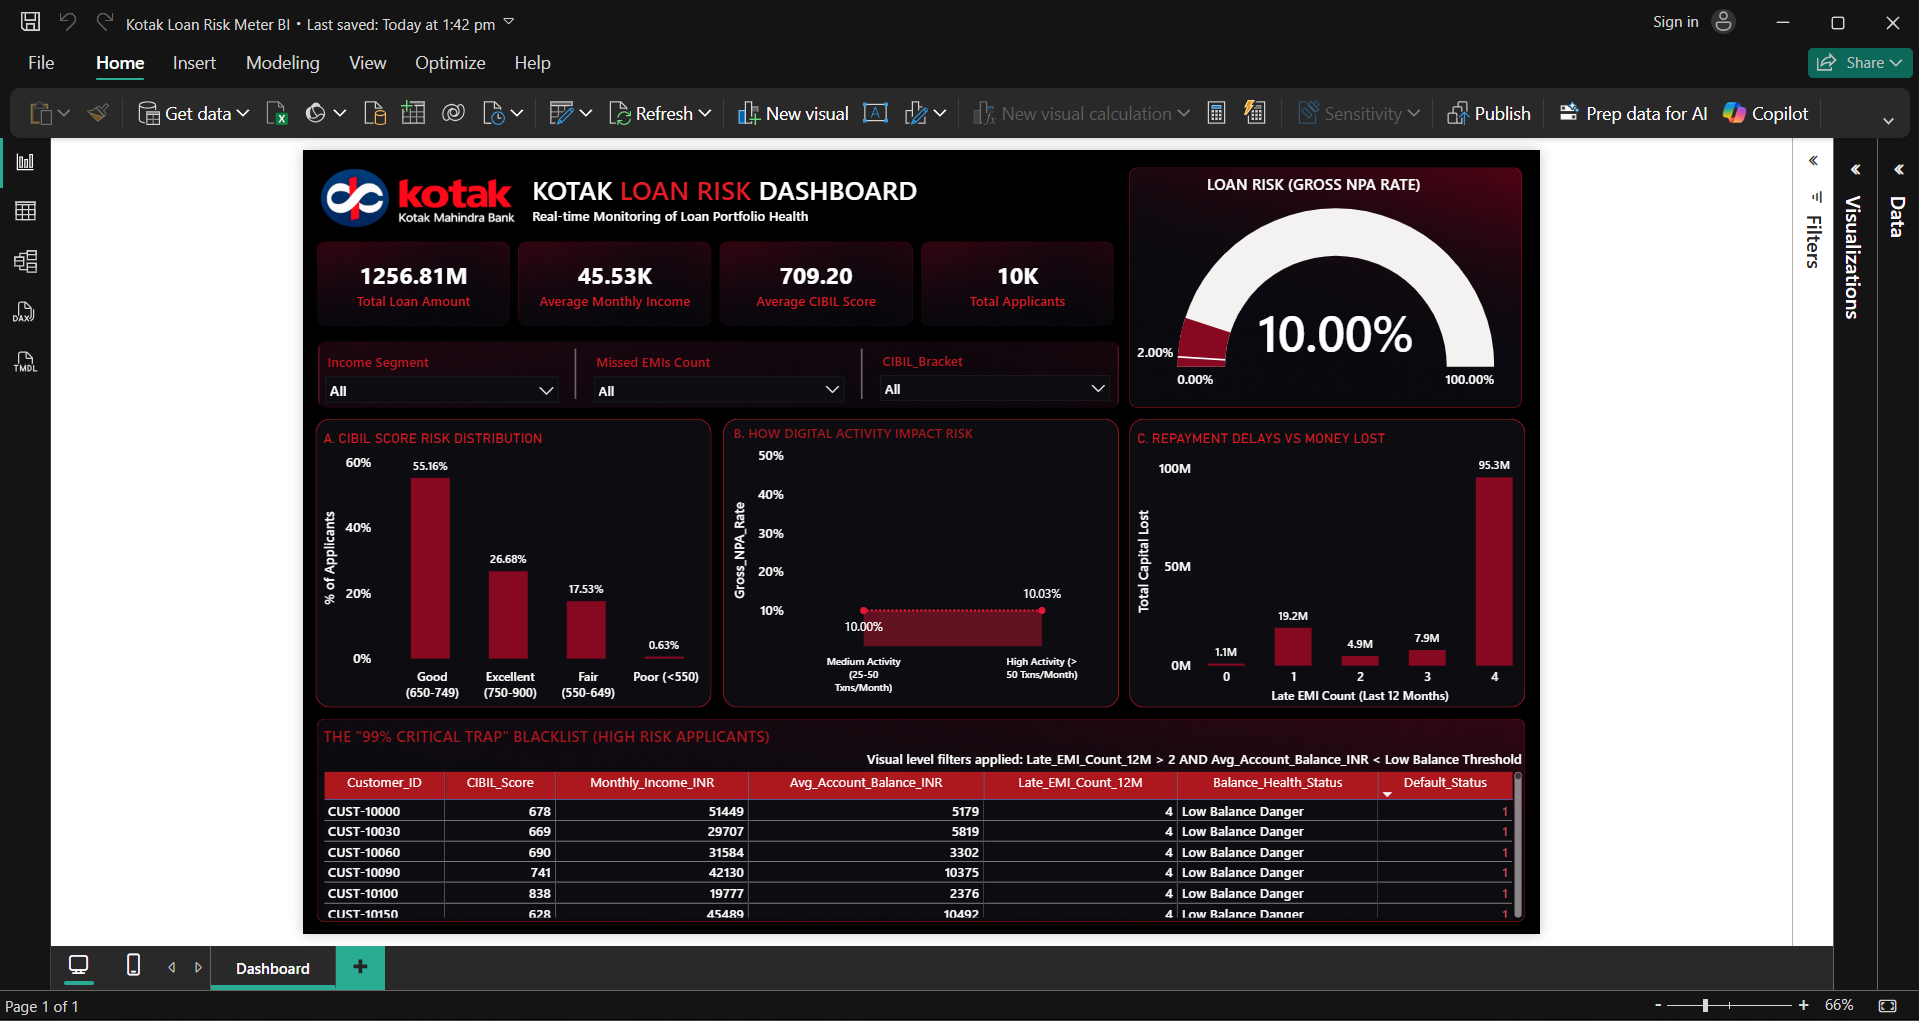

The page's visual inventory and layout, read from the dashboard file:
{"tool":"powerbi","page":{"name":"Dashboard","canvas":[1500,950],"ordinal":0},"visuals":[{"type":"textbox","box":[272.7,21.2,489.4,93.9],"z":0},{"type":"shape","box":[17.1,331.4,272.9,152.9],"z":1000},{"type":"image","box":[15.2,21.2,262.1,103],"z":2000},{"type":"cardVisual","title":"vshvs","fields":{"Data":["Kotak_Loans_Dataset.Total_Portfolio_Volume","Kotak_Loans_Dataset.Average_Monthly_Income","Kotak_Loans_Dataset.Average_CIBIL_Score","Kotak_Loans_Dataset.Total_Applicants_Count"]},"box":[0,93.9,1001.5,137.9],"z":3000},{"type":"image","box":[17.7,232.3,971,80.6],"z":4000},{"type":"slicer","fields":{"Values":["Kotak_Loans_Dataset.Salary_Segment"]},"box":[17.2,240.6,303.1,79.7],"z":5000},{"type":"shape","box":[15.7,325.7,480,350],"z":6000},{"type":"clusteredColumnChart","title":"A. CIBIL SCORE RISK DISTRIBUTION","fields":{"Category":["Kotak_Loans_Dataset.CIBIL_Bracket"],"Y":["CountNonNull(Kotak_Loans_Dataset.Customer_ID)"]},"box":[19.7,339.4,489.4,336.4],"z":7000},{"type":"slicer","fields":{"Values":["Kotak_Loans_Dataset.Late_EMI_Count_12M"]},"box":[342.2,240.6,323.4,79.7],"z":8000},{"type":"shape","box":[307.8,240.6,45.3,60.9],"z":9000},{"type":"shape","box":[508.6,325.7,480,350],"z":10000},{"type":"shape","box":[1001.4,325.7,480,350],"z":11000},{"type":"areaChart","title":"B. HOW DIGITAL ACTIVITY IMPACT RISK","fields":{"Category":["Kotak_Loans_Dataset.UPI_Activity_Tier"],"Y":["Kotak_Loans_Dataset.Gross_NPA_Rate"]},"box":[517.2,331.2,479.7,335.9],"z":12000},{"type":"clusteredColumnChart","title":"C. REPAYMENT DELAYS VS MONEY LOST","fields":{"Category":["Kotak_Loans_Dataset.Late_EMI_Count_12M"],"Y":["Kotak_Loans_Dataset.Total_Capital_Lost"]},"box":[1006.1,339.9,475.6,336.9],"z":13000},{"type":"image","box":[16.1,688.7,1464.5,246.8],"z":14000},{"type":"tableEx","title":"THE \"99% CRITICAL TRAP\" BLACKLIST (HIGH RISK APPLICANTS)","fields":{"Values":["Kotak_Loans_Dataset.Customer_ID","Sum(Kotak_Loans_Dataset.CIBIL_Score)","Sum(Kotak_Loans_Dataset.Monthly_Income_INR)","Sum(Kotak_Loans_Dataset.Avg_Account_Balance_INR)","Sum(Kotak_Loans_Dataset.Late_EMI_Count_12M)","Kotak_Loans_Dataset.Balance_Health_Status","Sum(Kotak_Loans_Dataset.Default_Status)"]},"box":[19.4,696.8,1462.9,238.7],"z":15000},{"type":"image","box":[1001.5,21.2,475.8,290.9],"z":16000},{"type":"gauge","title":"LOAN RISK (GROSS NPA RATE)","fields":{"Y":["Kotak_Loans_Dataset.Gross_NPA_Rate"]},"box":[1001.5,29.2,447.7,283.1],"z":17000},{"type":"slicer","fields":{"Values":["Kotak_Loans_Dataset.CIBIL_Bracket"]},"box":[689.1,239.1,298.4,81.2],"z":18000},{"type":"shape","box":[654.7,240.6,45.3,60.9],"z":19000}]}

Visuals, with their boxes on the page's 1500x950 design canvas (x1, y1, x2, y2). These are canvas units, not pixel positions in the 1919x1021 screenshot, which may show the page scaled, cropped or inside an application window:
textbox: rect(273, 21, 762, 115)
shape: rect(17, 331, 290, 484)
image: rect(15, 21, 277, 124)
"vshvs" cardVisual: rect(0, 94, 1002, 232)
image: rect(18, 232, 989, 313)
slicer - Kotak_Loans_Dataset.Salary_Segment: rect(17, 241, 320, 320)
shape: rect(16, 326, 496, 676)
"A. CIBIL SCORE RISK DISTRIBUTION" clusteredColumnChart: rect(20, 339, 509, 676)
slicer - Kotak_Loans_Dataset.Late_EMI_Count_12M: rect(342, 241, 666, 320)
shape: rect(308, 241, 353, 302)
shape: rect(509, 326, 989, 676)
shape: rect(1001, 326, 1481, 676)
"B. HOW DIGITAL ACTIVITY IMPACT RISK" areaChart: rect(517, 331, 997, 667)
"C. REPAYMENT DELAYS VS MONEY LOST" clusteredColumnChart: rect(1006, 340, 1482, 677)
image: rect(16, 689, 1481, 936)
"THE "99% CRITICAL TRAP" BLACKLIST (HIGH RISK APPLICANTS)" tableEx: rect(19, 697, 1482, 936)
image: rect(1002, 21, 1477, 312)
"LOAN RISK (GROSS NPA RATE)" gauge: rect(1002, 29, 1449, 312)
slicer - Kotak_Loans_Dataset.CIBIL_Bracket: rect(689, 239, 988, 320)
shape: rect(655, 241, 700, 302)
